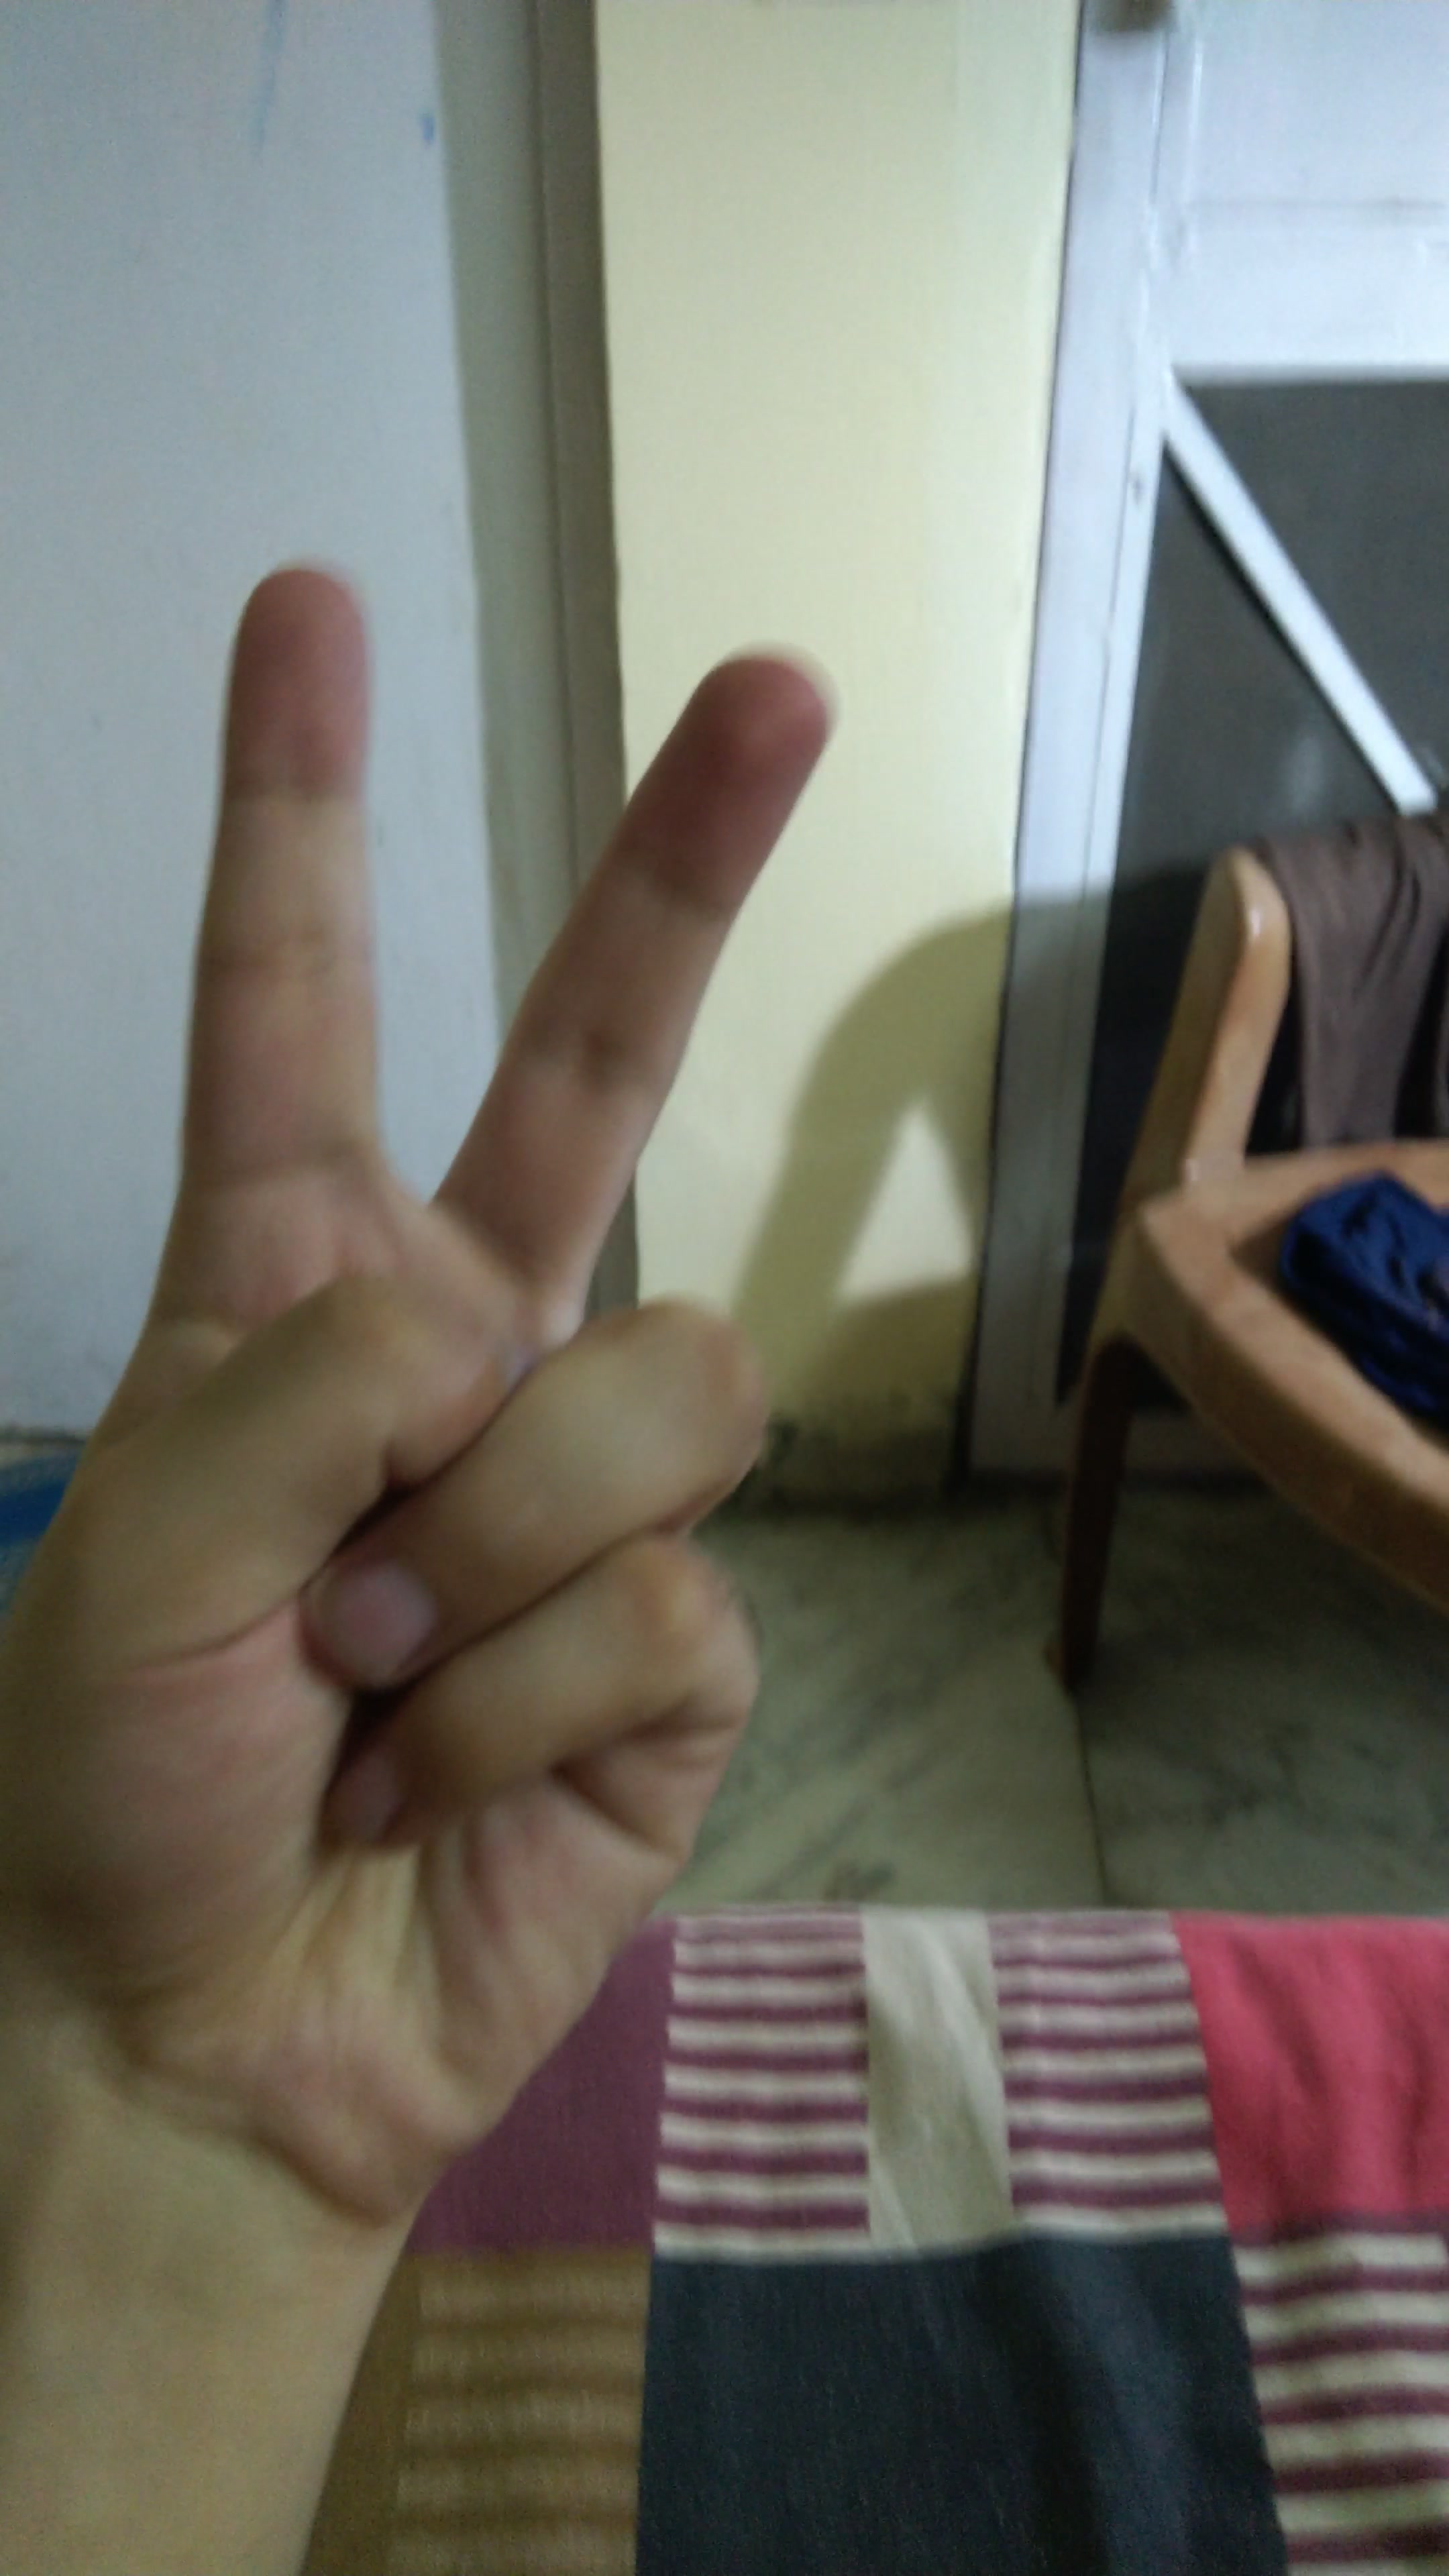hand: (37, 494, 851, 2242)
